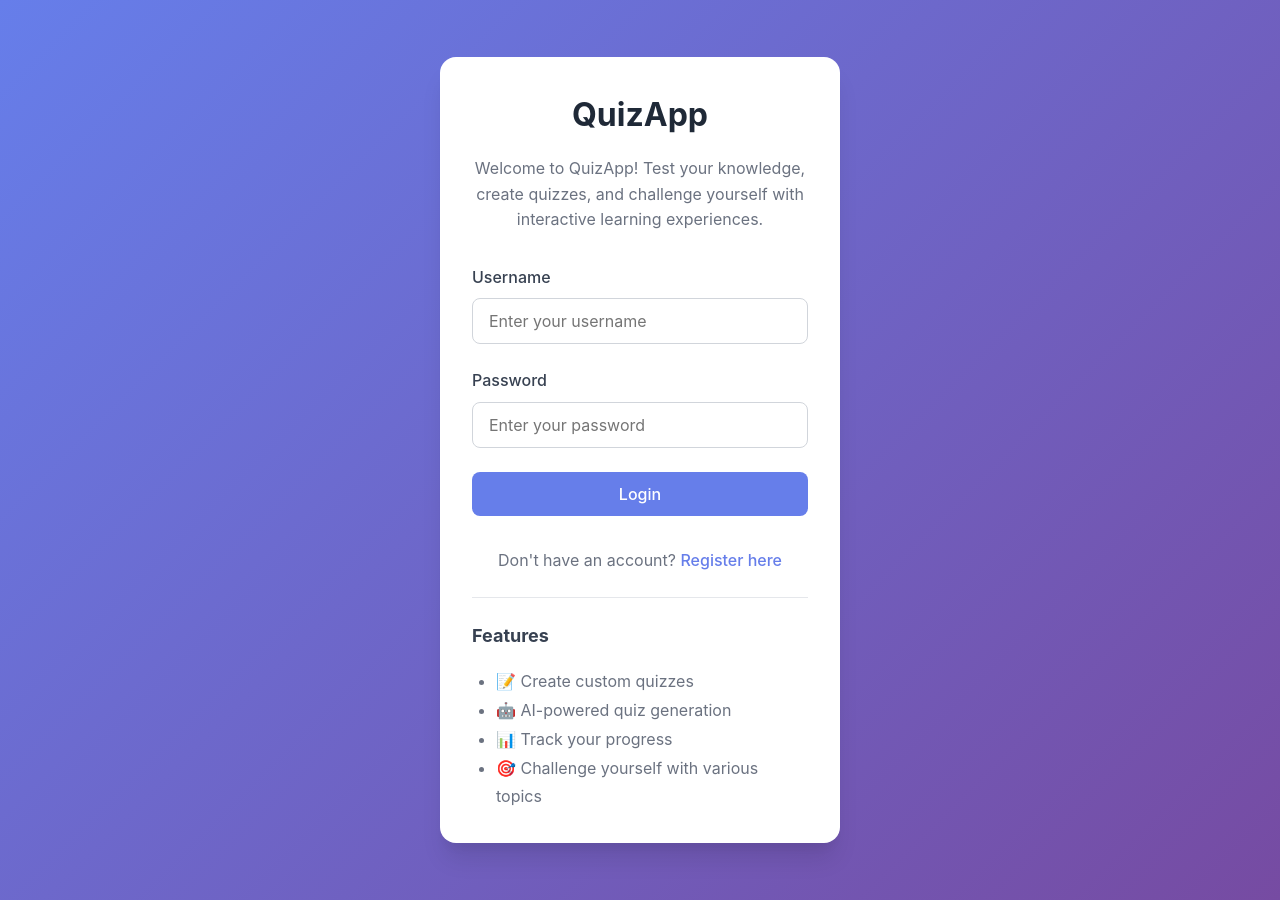
Login › shows error when submitting empty username
This screenshot has width=1280, height=900.
Click the button "Login" at (640, 494), box [472,472,808,516]
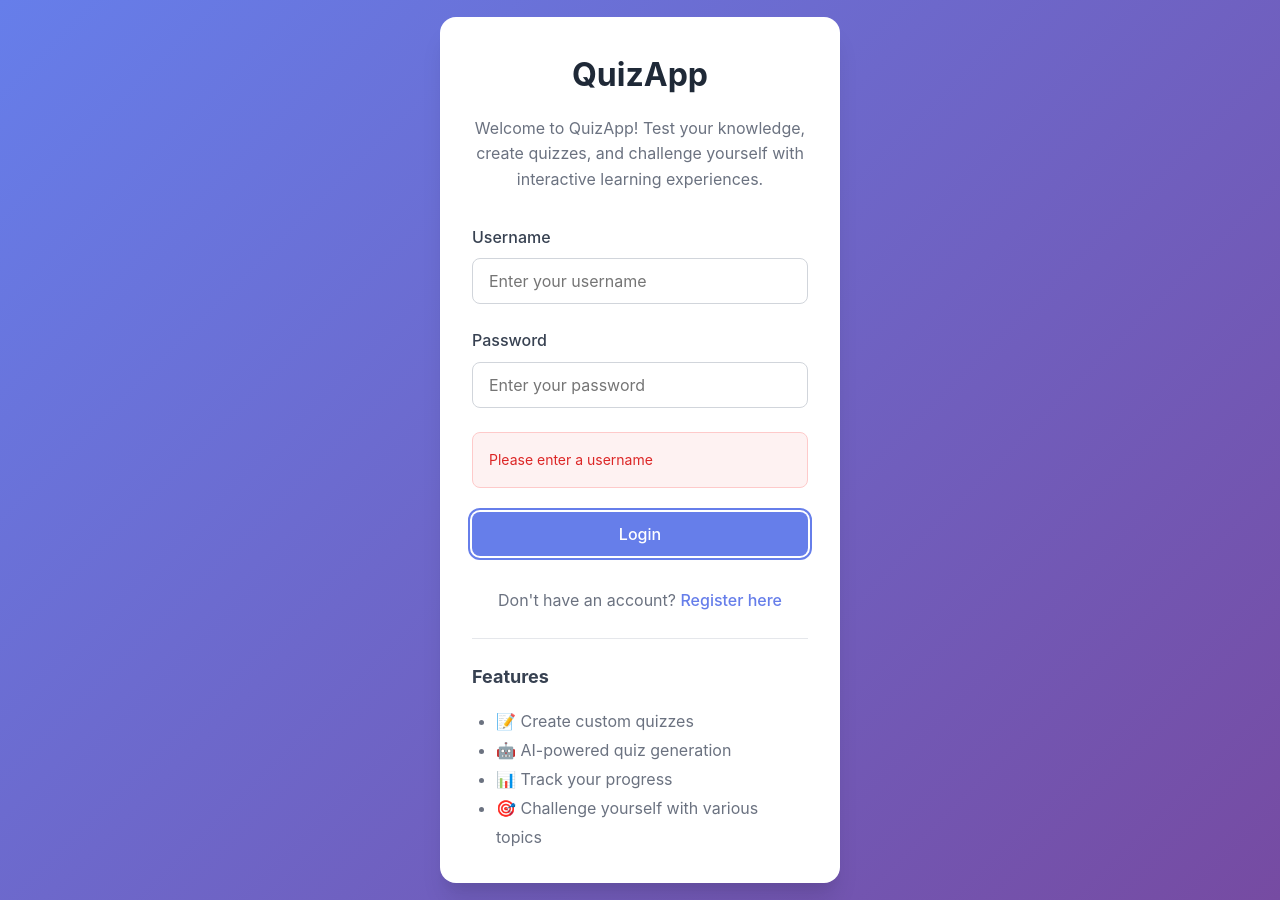
Check: the message reads "Please enter a username", box [489,451,653,468]
